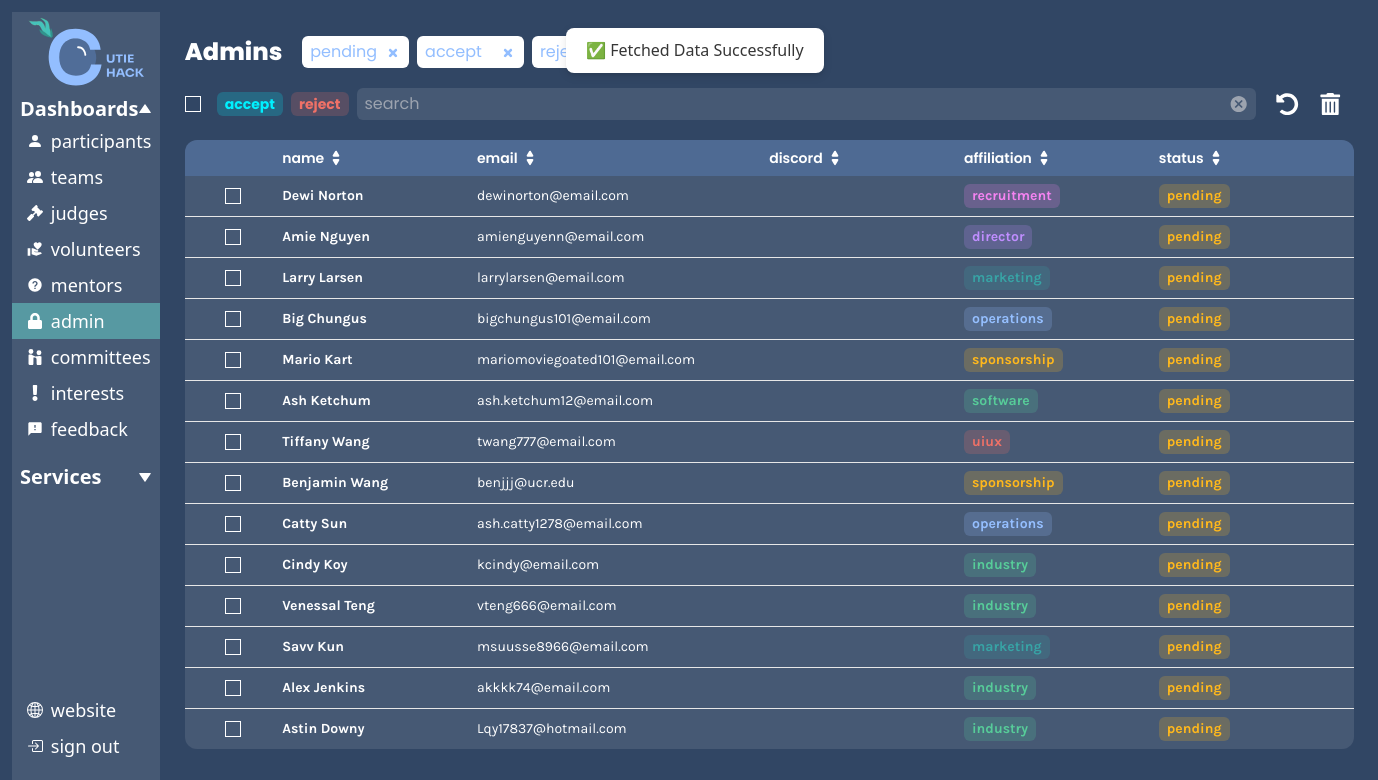
Admin Sort › Sort Name Down
Click the icon with test id "name-sort-down" at x=336, y=162, box [332,158,340,166]
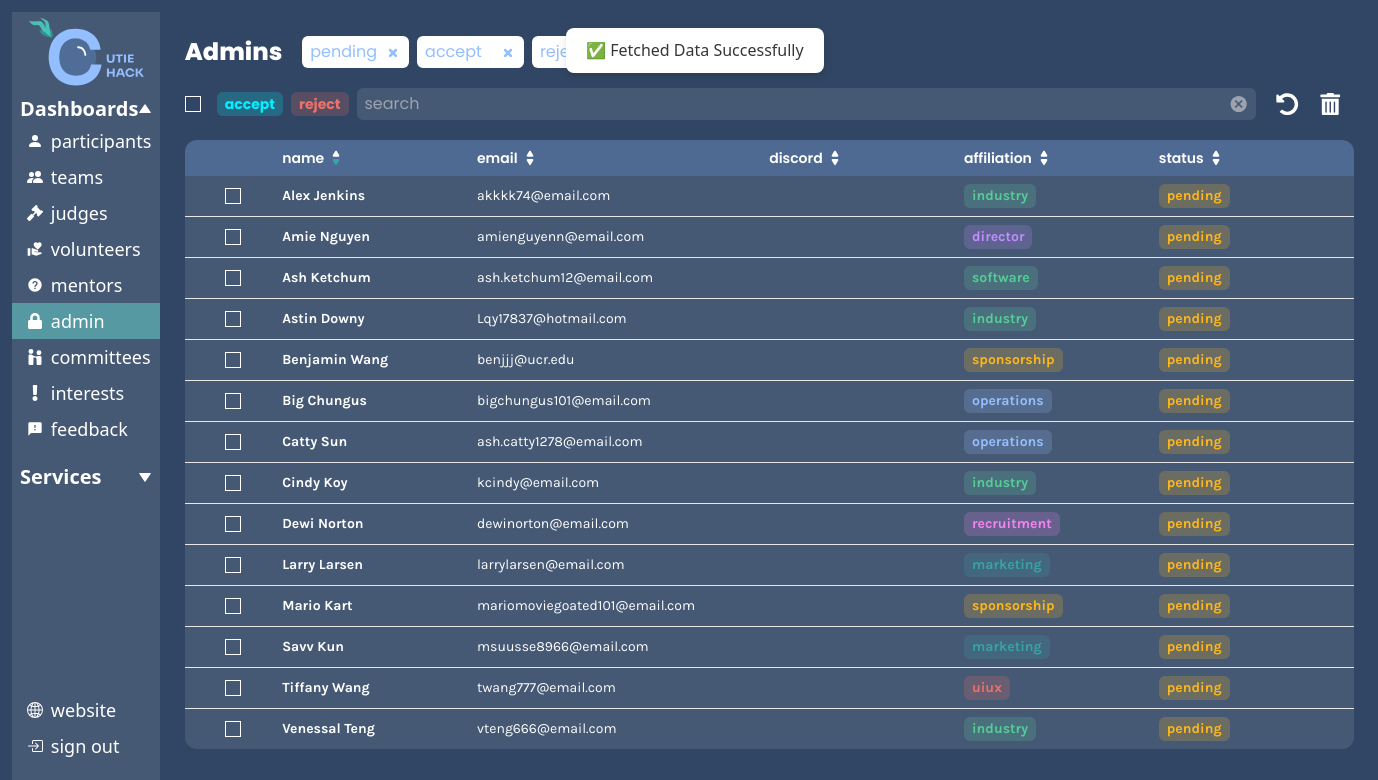
Expected: the text with test id "name" reads "Alex Jenkins", [282,186,365,206]
Expected: the text with test id "name" reads "Ash Ketchum", [282,268,371,288]
Expected: the text with test id "name" reads "Astin Downy", [282,309,365,329]
